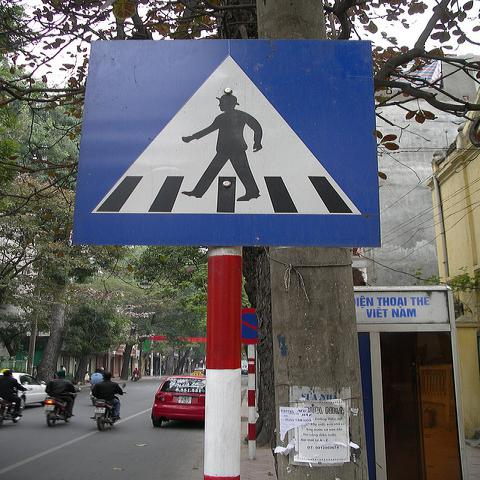car: (151, 375, 206, 427), (0, 372, 50, 410)
motorcycle: (41, 395, 66, 428), (95, 398, 115, 432), (0, 398, 23, 424)
